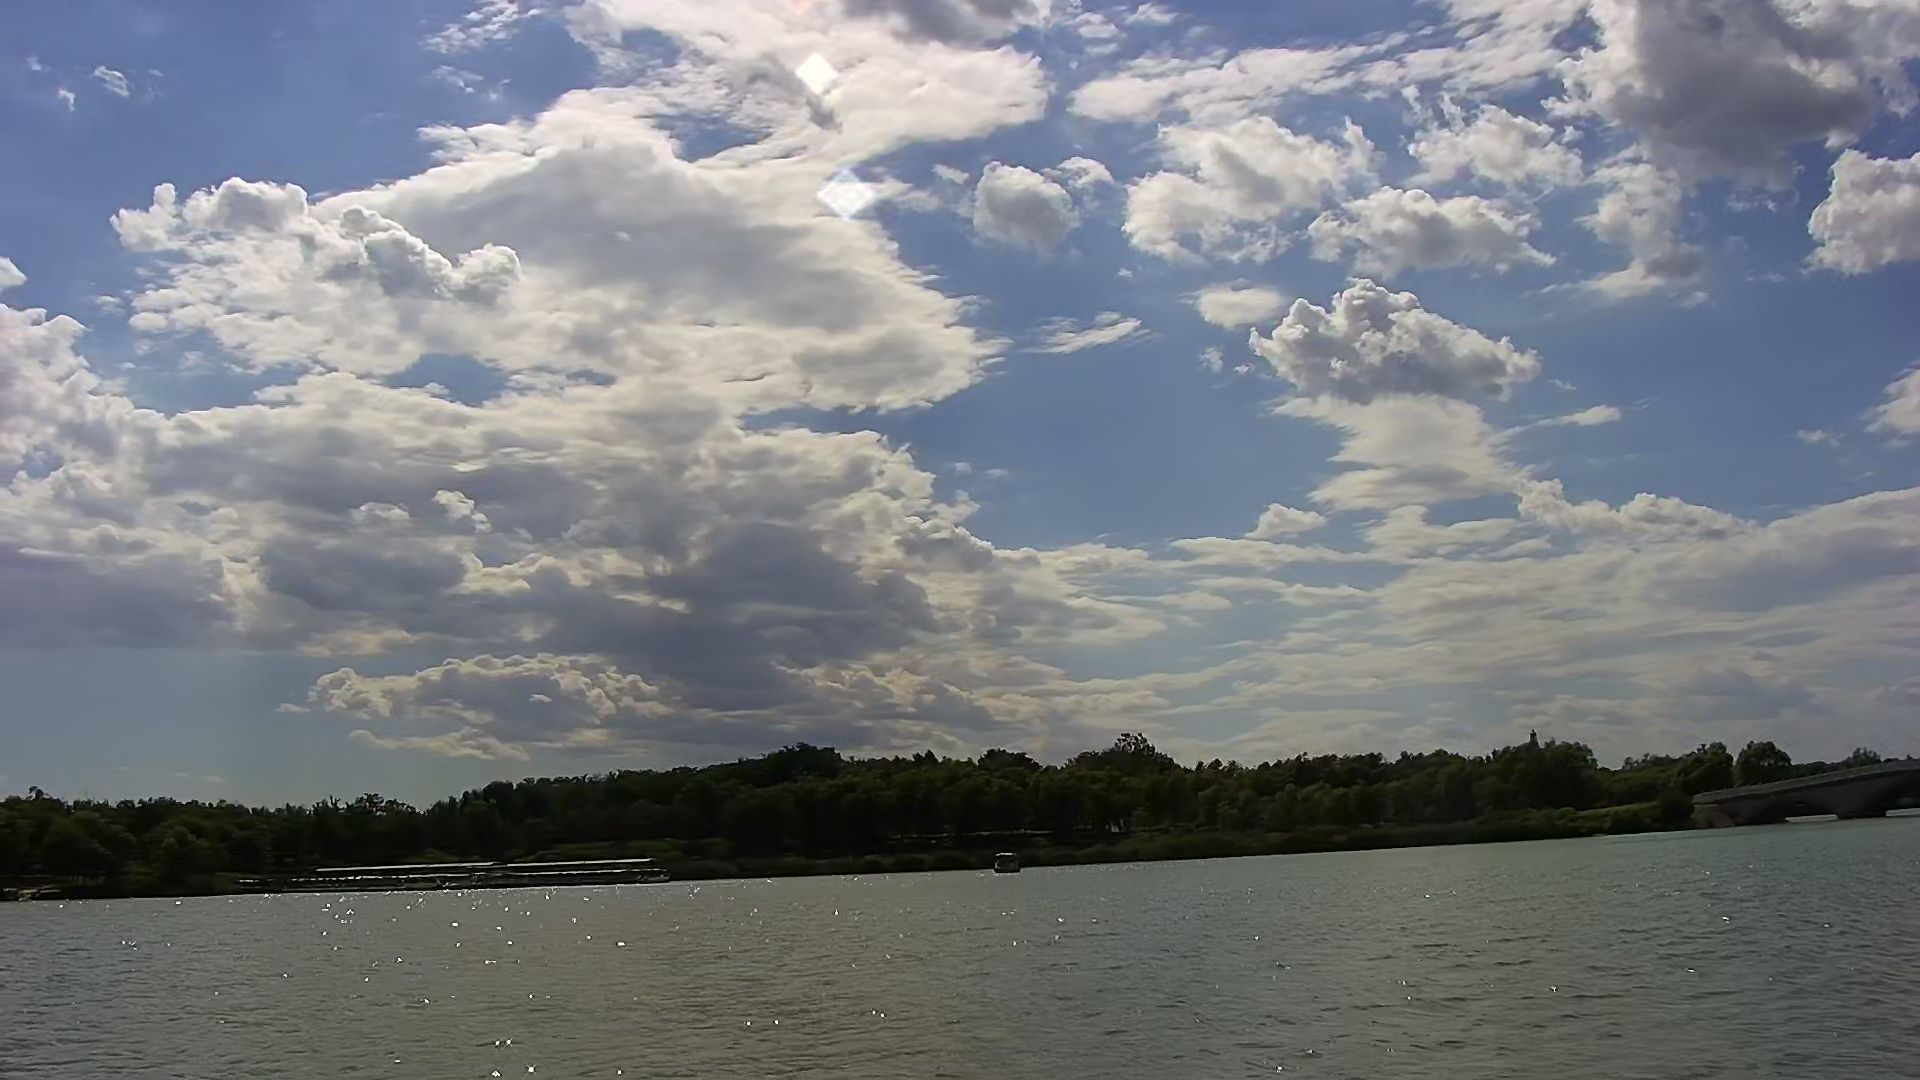boat: (992, 847, 1023, 876)
bridge: (1640, 756, 1920, 829)
ship: (311, 851, 669, 889)
